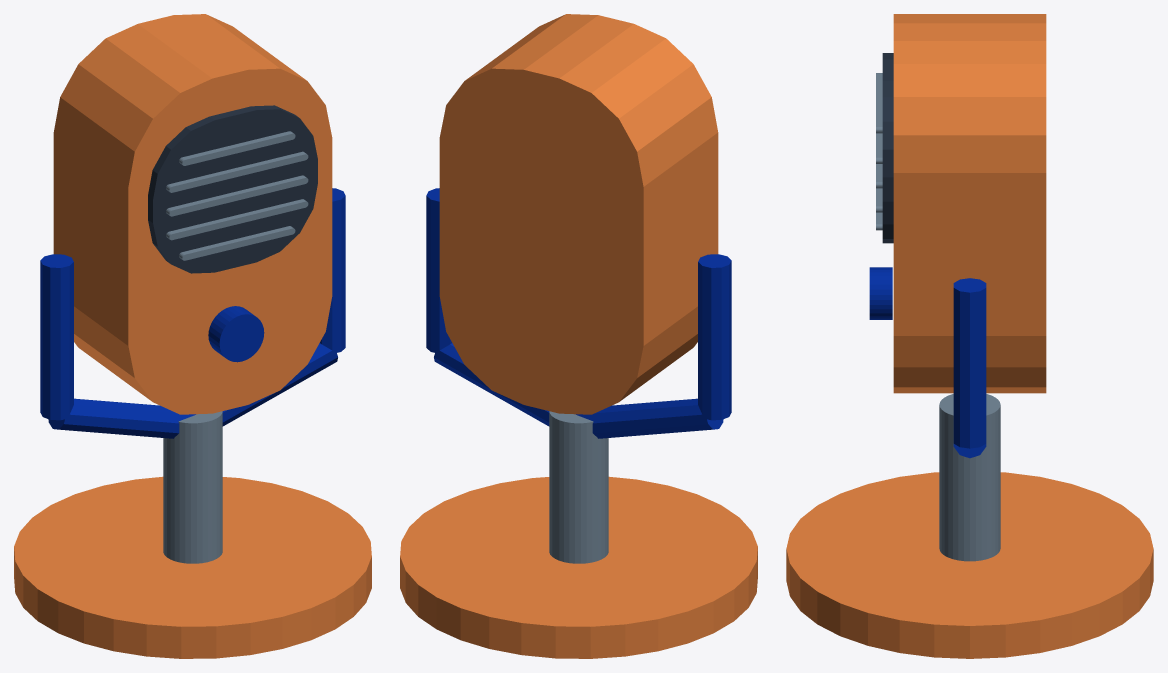
Rendered from mic.glb.
3 renders of one model, left to right at view 1: azimuth 30°, elevation 25°; view 2: azimuth 150°, elevation 25°; view 3: azimuth 270°, elevation 25°, orthographic. The views are drawn at different scales.
Parts seen in each view (by area): view 1: capsule, base, grille, stand, yoke0, yoke1, yoke3, mute key, mesh bar 3, mesh bar 1, mesh bar 2, yoke2 (+2 smaller); view 2: capsule, base, stand, yoke0, yoke1, yoke3, yoke2; view 3: capsule, base, stand, yoke3, grille, mute key.
Boxes of the visible parts, bbox=[...] form: capsule: bbox=[53, 14, 332, 414]; base: bbox=[14, 476, 371, 658]; grille: bbox=[148, 105, 317, 273]; stand: bbox=[163, 411, 222, 563]; yoke0: bbox=[40, 254, 73, 420]; yoke1: bbox=[48, 398, 195, 438]; yoke3: bbox=[320, 188, 345, 352]; mute key: bbox=[208, 306, 264, 362]; mesh bar 3: bbox=[166, 151, 308, 192]; mesh bar 1: bbox=[166, 199, 308, 240]; mesh bar 2: bbox=[166, 175, 308, 216]; yoke2: bbox=[222, 343, 337, 426]; capsule: bbox=[439, 14, 718, 414]; base: bbox=[400, 476, 757, 658]; stand: bbox=[549, 411, 608, 563]; yoke0: bbox=[698, 254, 731, 420]; yoke1: bbox=[576, 398, 723, 438]; yoke3: bbox=[426, 188, 451, 352]; yoke2: bbox=[434, 343, 549, 426]; capsule: bbox=[893, 14, 1046, 393]; base: bbox=[786, 472, 1153, 658]; stand: bbox=[939, 394, 1000, 561]; yoke3: bbox=[953, 278, 986, 448]; grille: bbox=[882, 53, 893, 243]; mute key: bbox=[869, 267, 892, 319].
Bounding box in the file's own units: 0.96 × 1.59 × 0.96.
